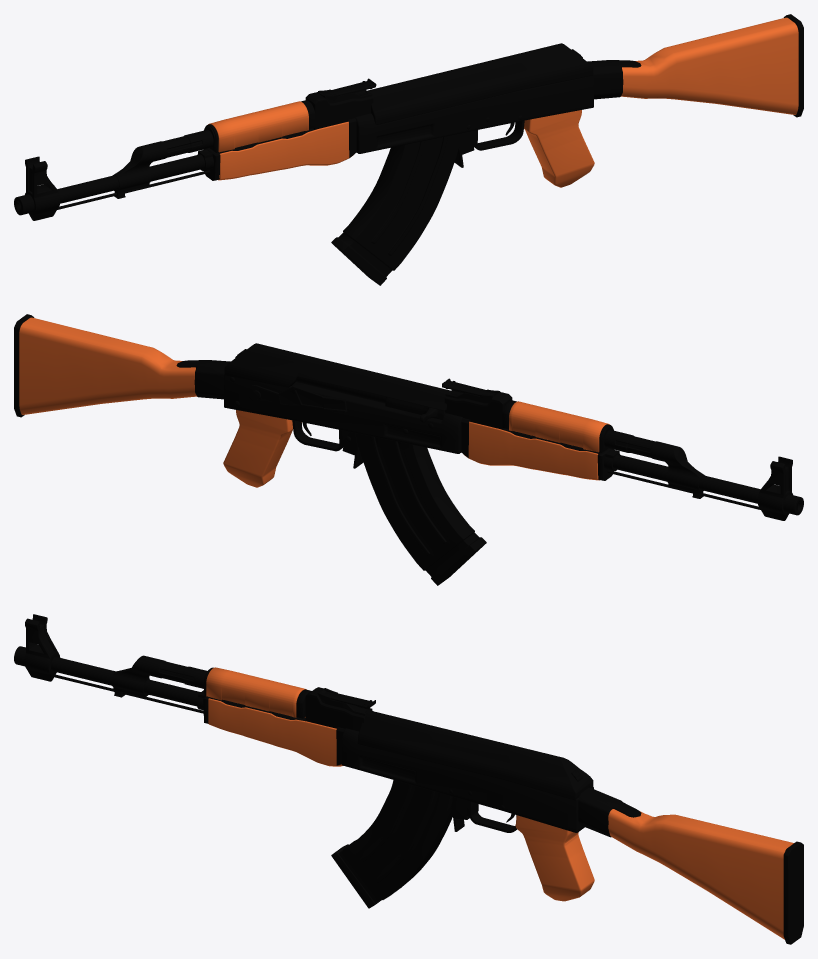
The picture shows the model from 3 angles, top to bottom: view 1: azimuth 30°, elevation 25°; view 2: azimuth 150°, elevation 25°; view 3: azimuth 330°, elevation 25°; orthographic projection.
Parts seen in each view (by area): view 1: ak-47; view 2: ak-47; view 3: ak-47.
Part boxes in pixels (box(x1,y1,x2,y2)): ak-47: box(14, 14, 803, 285); ak-47: box(14, 314, 803, 585); ak-47: box(14, 614, 803, 944).
Size of the model in its own units: 2.24 by 0.5606 by 0.1293.
